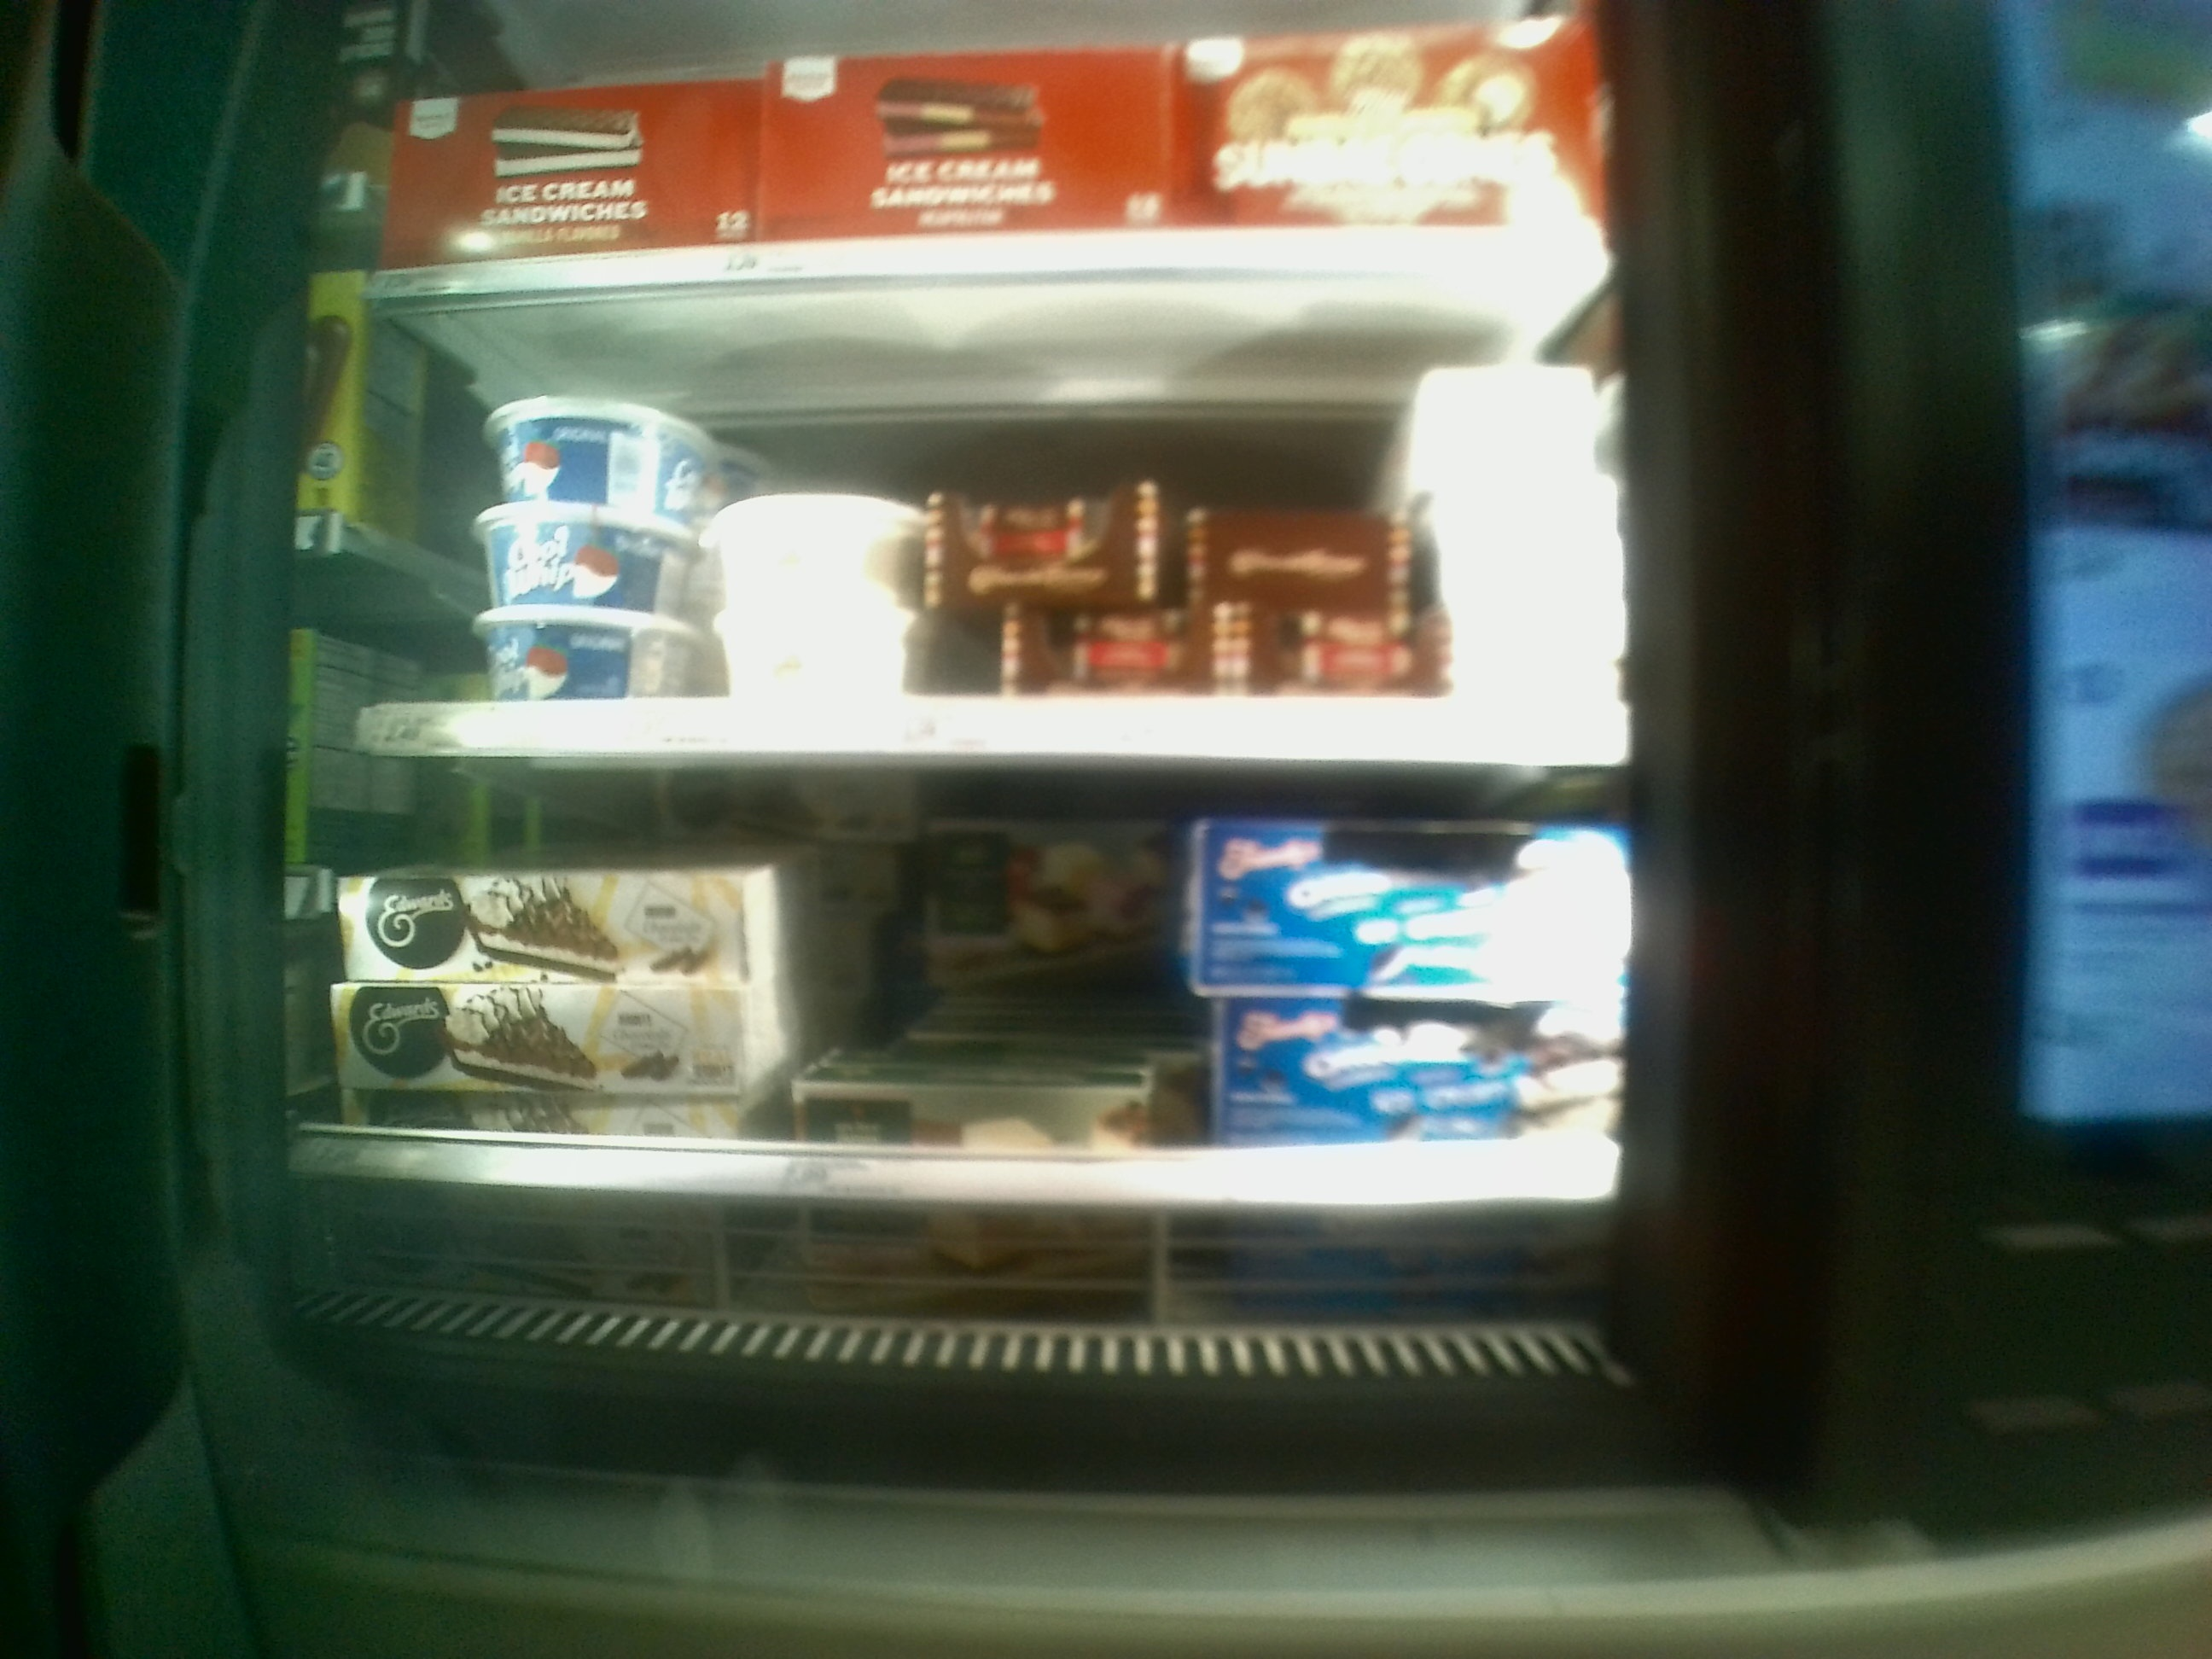frozen-food-shelf: (350, 305, 1641, 763)
